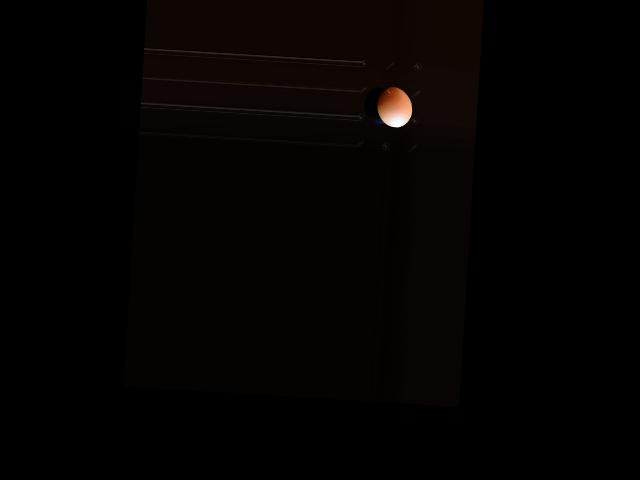egg: (375, 86, 413, 128)
